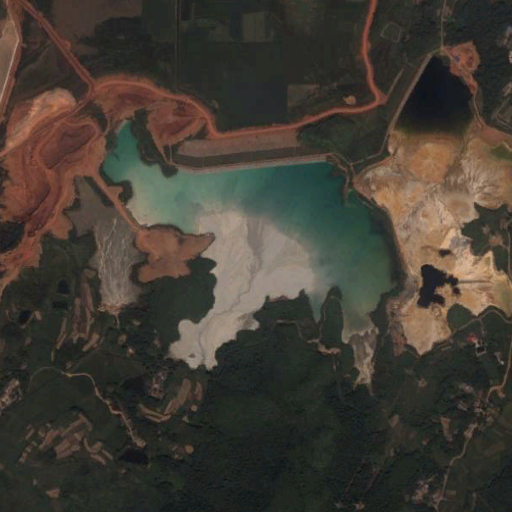tp: (99, 112, 407, 390)
